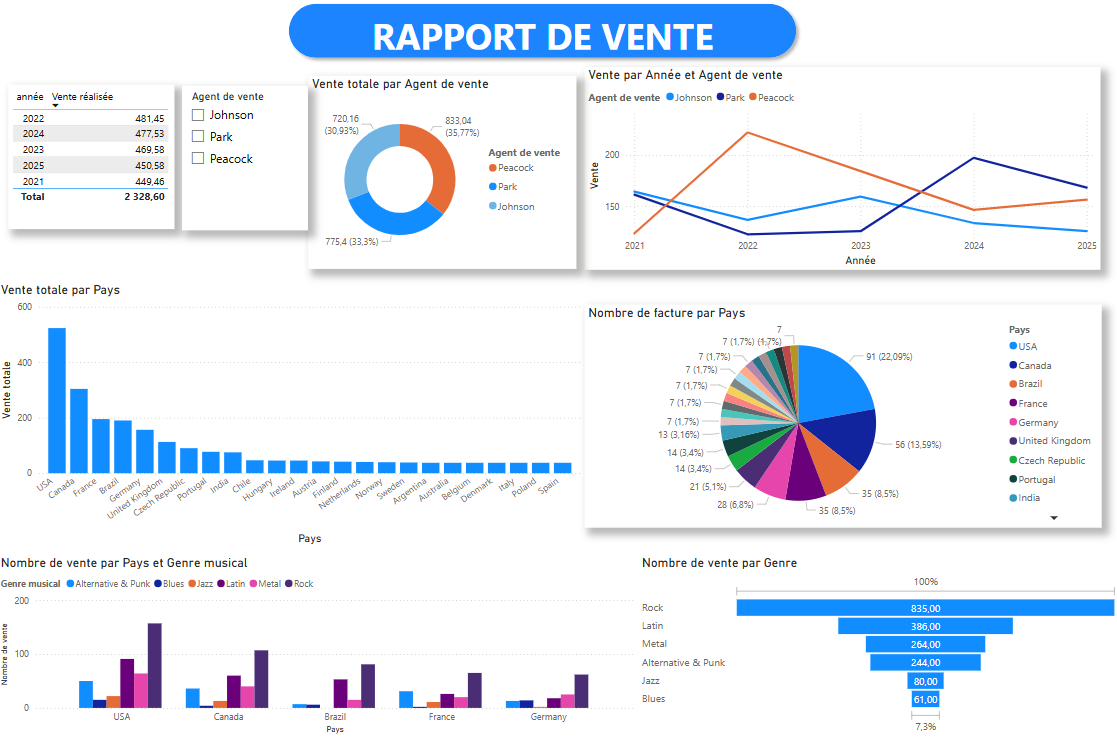

This screenshot's page, from the dashboard's own definition file:
{"tool":"powerbi","page":{"name":"Page 1","canvas":[1500,1000],"ordinal":0},"visuals":[{"type":"clusteredColumnChart","fields":{"Category":["chinook rapport_vente_total_par_pays.BillingCountry"],"Y":["chinook rapport_vente_total_par_pays.total_vente"]},"box":[0,380.4,783,355],"z":0},{"type":"lineChart","fields":{"Y":["chinook vente_annuelle_par_agent_de_vente.total_vente"],"Category":["chinook vente_annuelle_par_agent_de_vente.YEAR(i.InvoiceDate)"],"Series":["chinook vente_annuelle_par_agent_de_vente.LastName"]},"box":[783.2,92.9,687.8,270.6],"z":1000},{"type":"donutChart","fields":{"Y":["chinook vente_totale_par_agent_de_vente.total_vente"],"Category":["chinook vente_totale_par_agent_de_vente.LastName"]},"box":[414.8,105.2,357.9,257.8],"z":2000},{"type":"tableEx","fields":{"Values":["chinook rapport_totaux_vente_par_année.year","chinook rapport_totaux_vente_par_année.total_invoice_2021"]},"box":[14.4,117.4,221.6,192.6],"z":3000},{"type":"slicer","fields":{"Values":["chinook vente_totale_par_agent_de_vente.LastName"]},"box":[247.2,117.9,167.7,193],"z":4000},{"type":"pieChart","fields":{"Category":["chinook rapport_vente_total_par_pays.BillingCountry"],"Y":["chinook nombre_facture_par_pays.COUNT(*)"]},"box":[783,409.3,689.5,297.2],"z":5000},{"type":"clusteredColumnChart","fields":{"Category":["chinook genre_musique_les_plus_acheté_par_pays.BillingCountry"],"Series":["chinook genre_musique_les_plus_acheté_par_pays.Name"],"Y":["chinook genre_musique_les_plus_acheté_par_pays.SUM(il.Quantity)"]},"box":[0.6,744.1,854.5,244.6],"z":6000},{"type":"funnel","fields":{"Y":["chinook genre_musique_les_plus_acheté.SUM(il.Quantity)"],"Category":["chinook genre_musique_les_plus_acheté.Name"]},"box":[855.1,744.1,645,244.6],"z":7000},{"type":"shape","box":[380.4,0,694.6,90],"z":8000}]}

Visuals, with their boxes in screenshot pixels (x1, y1, x2, y2), scaled from the page's 1500x1000 canvas onto the 1117x740 screenshot:
clusteredColumnChart - chinook rapport_vente_total_par_pays.BillingCountry x chinook rapport_vente_total_par_pays.total_vente: <region>0, 281, 583, 544</region>
lineChart - chinook vente_annuelle_par_agent_de_vente.total_vente x chinook vente_annuelle_par_agent_de_vente.YEAR(i.InvoiceDate): <region>583, 69, 1095, 269</region>
donutChart - chinook vente_totale_par_agent_de_vente.total_vente x chinook vente_totale_par_agent_de_vente.LastName: <region>309, 78, 575, 269</region>
tableEx - chinook rapport_totaux_vente_par_année.year x chinook rapport_totaux_vente_par_année.total_invoice_2021: <region>11, 87, 176, 229</region>
slicer - chinook vente_totale_par_agent_de_vente.LastName: <region>184, 87, 309, 230</region>
pieChart - chinook rapport_vente_total_par_pays.BillingCountry x chinook nombre_facture_par_pays.COUNT(*): <region>583, 303, 1097, 523</region>
clusteredColumnChart - chinook genre_musique_les_plus_acheté_par_pays.BillingCountry x chinook genre_musique_les_plus_acheté_par_pays.Name: <region>0, 551, 637, 732</region>
funnel - chinook genre_musique_les_plus_acheté.SUM(il.Quantity) x chinook genre_musique_les_plus_acheté.Name: <region>637, 551, 1116, 732</region>
shape: <region>283, 0, 801, 67</region>
